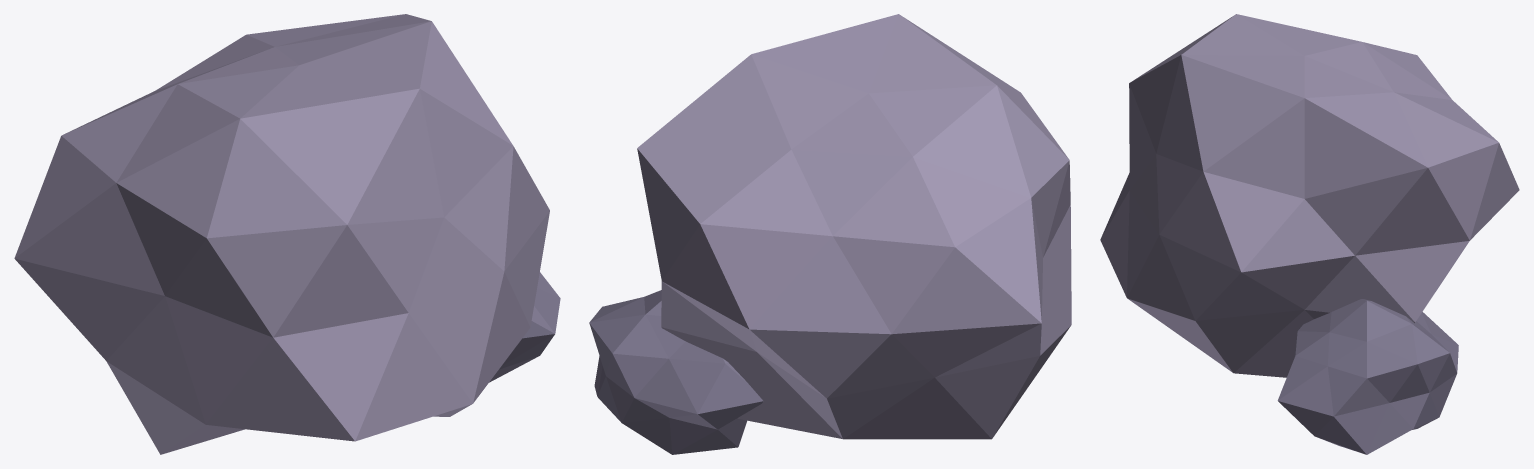
Rendered from kit__boulder_a.fbx.
The picture shows the model from 3 angles, left to right: view 1: azimuth 30°, elevation 25°; view 2: azimuth 150°, elevation 25°; view 3: azimuth 270°, elevation 25°; orthographic projection. The views are drawn at different scales.
Parts seen in each view (by area): view 1: kit__boulder_a; view 2: kit__boulder_a; view 3: kit__boulder_a.
Boxes of the visible parts, x1,y1,x2,y2 form: kit__boulder_a: (14,14,560,454); kit__boulder_a: (589,14,1071,454); kit__boulder_a: (1100,14,1519,454).
Size of the model in its own units: 3.08 by 2.38 by 2.69.
